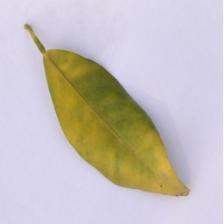greening: (18, 19, 194, 199)
